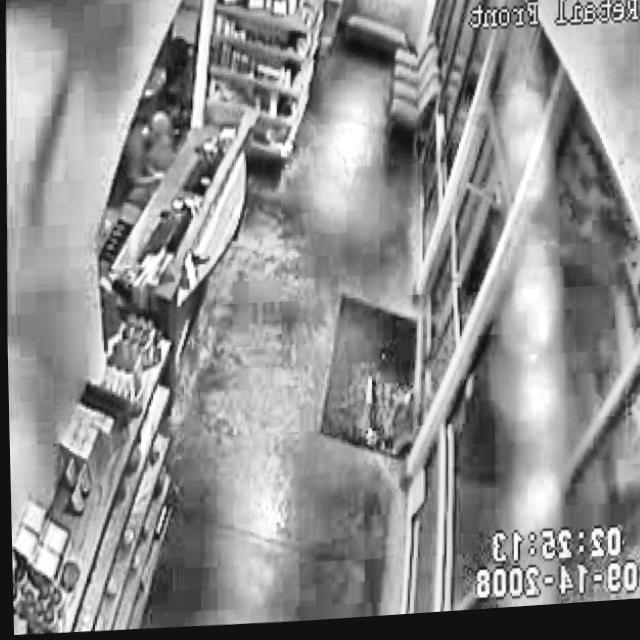burglary: (117, 76, 196, 222)
